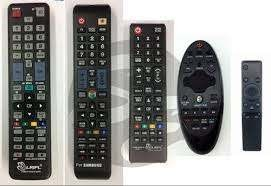remote control: (70, 6, 115, 180), (11, 4, 51, 178), (176, 30, 223, 158), (135, 23, 167, 165), (238, 60, 269, 155)
